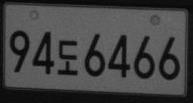4: (31, 31, 55, 74), (107, 34, 131, 77)
6: (132, 35, 156, 79), (158, 36, 181, 81), (83, 33, 106, 77)
9: (8, 29, 30, 72)
도: (56, 39, 78, 75)
